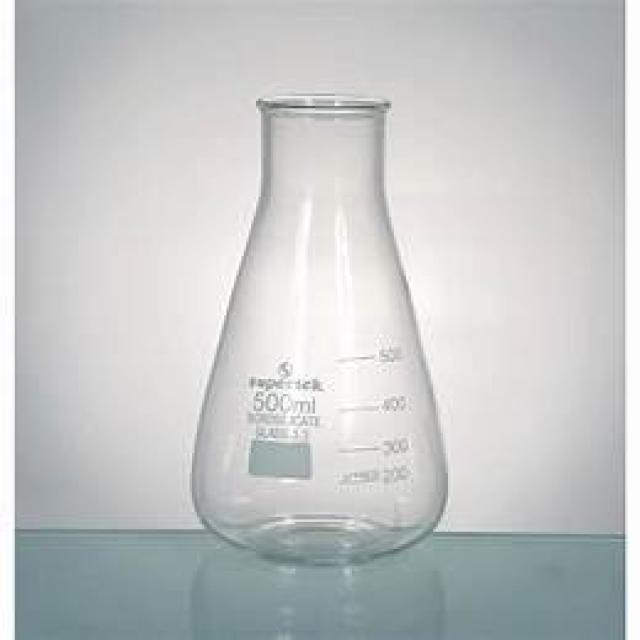Titrarion: (188, 85, 453, 562)
